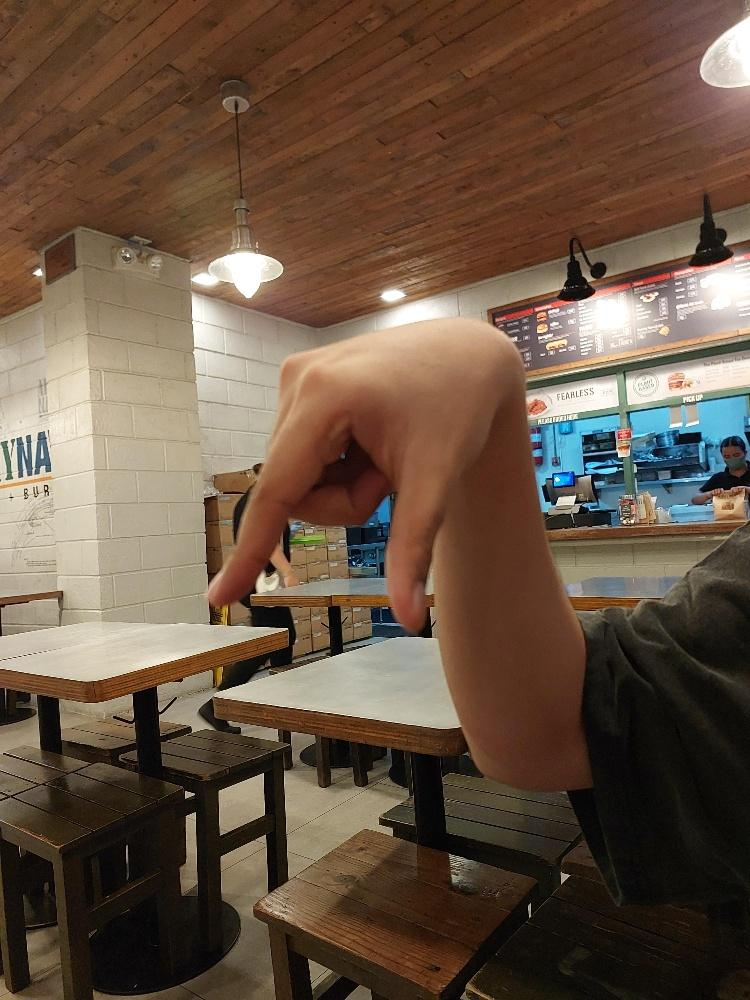q: (202, 311, 498, 633)
